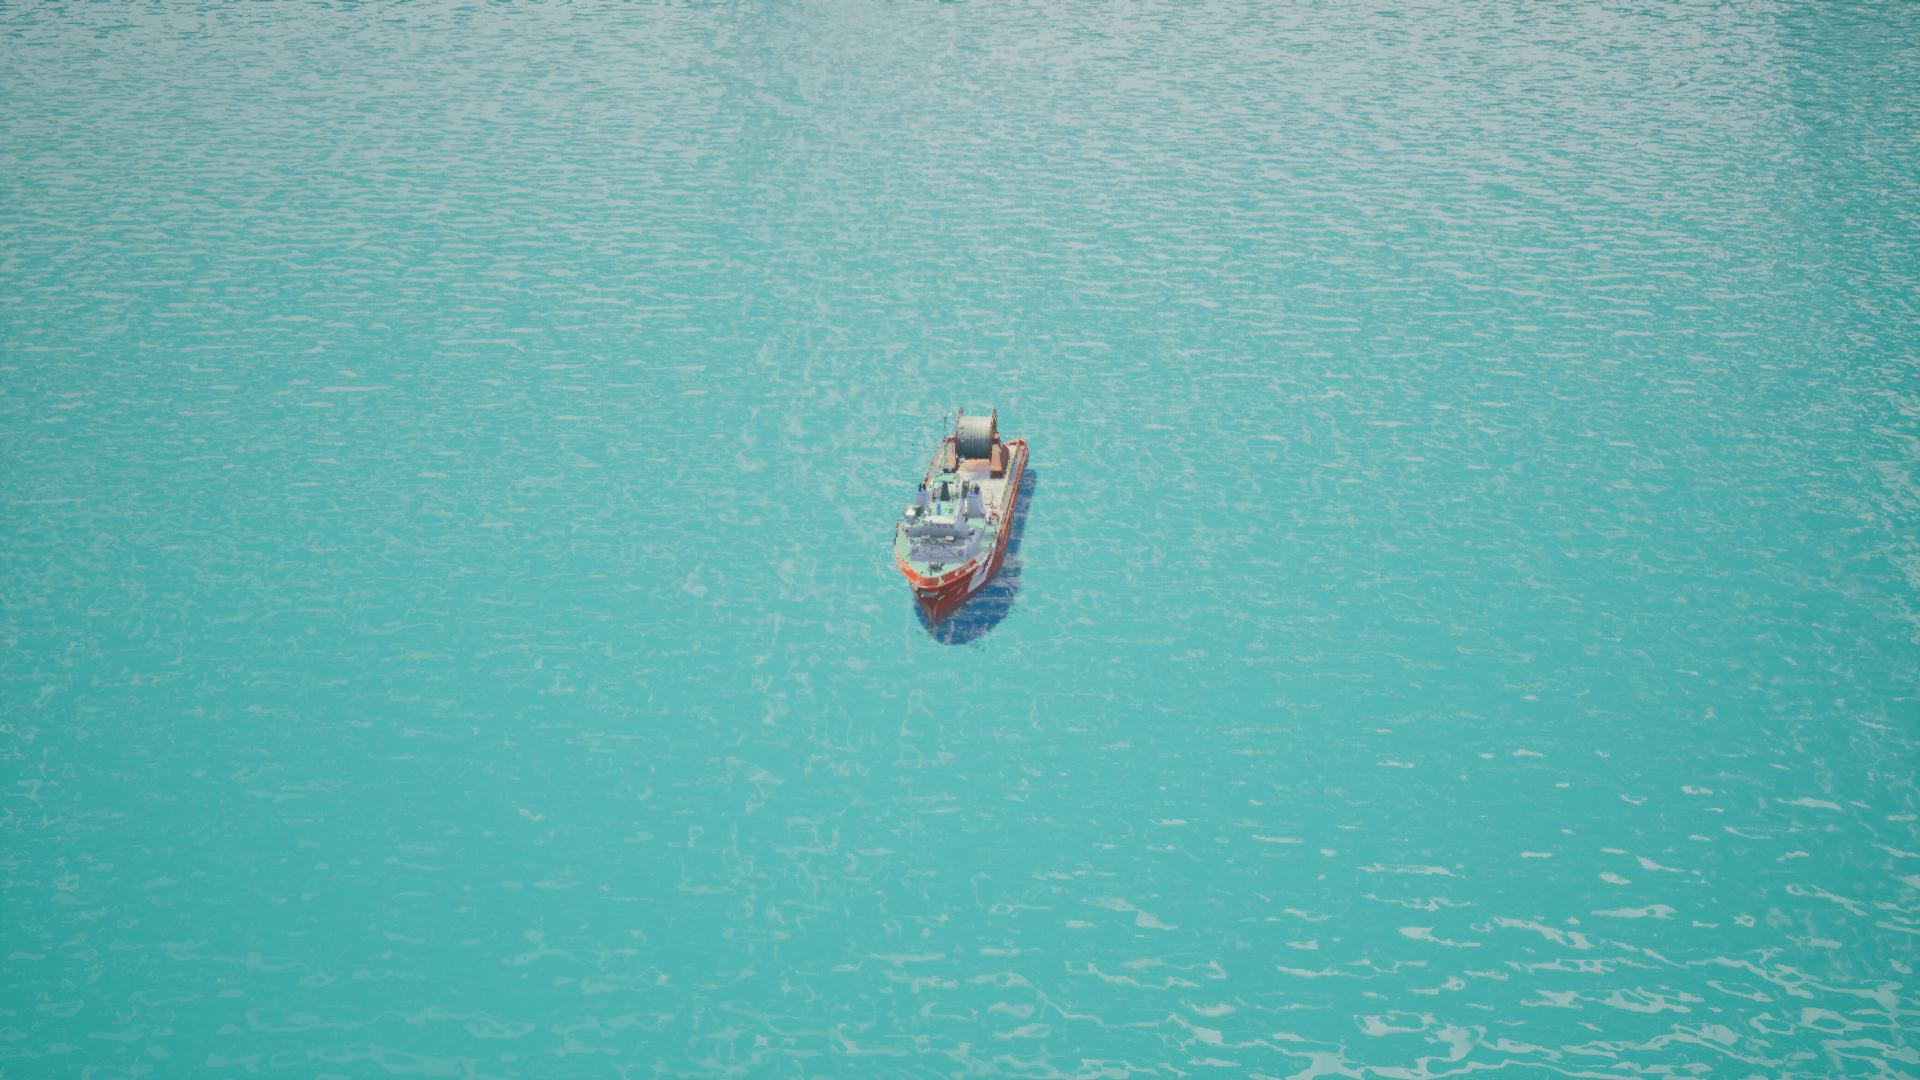Tug Boat: (872, 385, 1050, 644)
